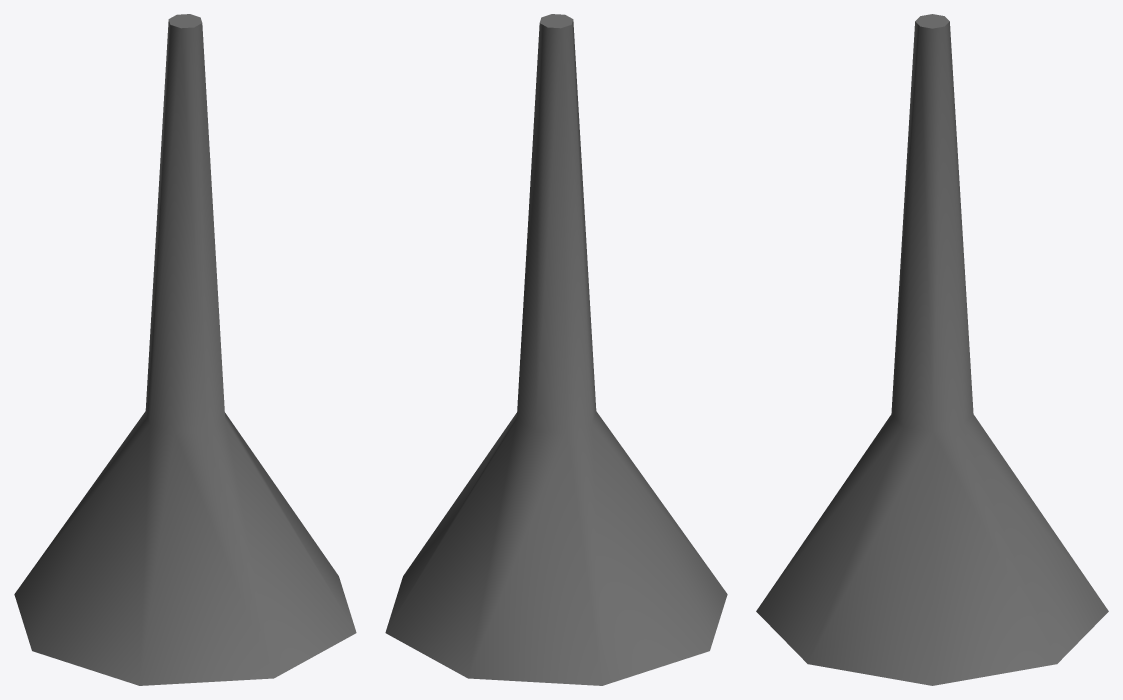
Rendered from Luz de Techo.fbx.
3 renders of one model, left to right at view 1: azimuth 30°, elevation 25°; view 2: azimuth 150°, elevation 25°; view 3: azimuth 270°, elevation 25°, orthographic.
Visible parts, largest first — view 1: LuzTecho; view 2: LuzTecho; view 3: LuzTecho.
Part boxes in pixels (bbox=[...]): LuzTecho: bbox=[14, 14, 356, 685]; LuzTecho: bbox=[385, 14, 727, 685]; LuzTecho: bbox=[756, 14, 1108, 685].
Size of the model in its own units: 46.88 by 86.49 by 46.88.
